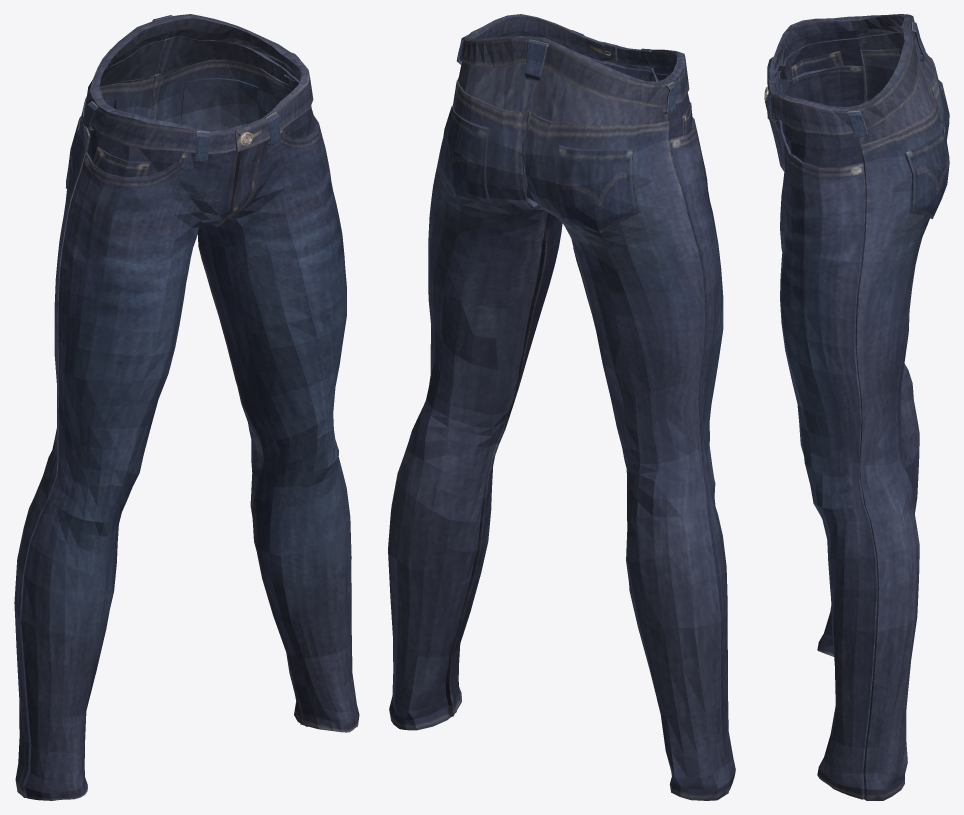
File: mhw_punkduck_female_tight_jeans.glb
3 renders of one model, left to right at view 1: azimuth 30°, elevation 25°; view 2: azimuth 150°, elevation 25°; view 3: azimuth 270°, elevation 25°, orthographic. The views are drawn at different scales.
Parts seen in each view (by area): view 1: mhw_punkduck_female_tight_jeans; view 2: mhw_punkduck_female_tight_jeans; view 3: mhw_punkduck_female_tight_jeans.
Boxes of the visible parts, bbox=[...] form: mhw_punkduck_female_tight_jeans: bbox=[14, 14, 359, 800]; mhw_punkduck_female_tight_jeans: bbox=[388, 14, 735, 800]; mhw_punkduck_female_tight_jeans: bbox=[764, 14, 949, 800].
Size of the model in its own units: 0.5228 by 1.09 by 0.2623.
Materials: 1 (1 with a texture image).
